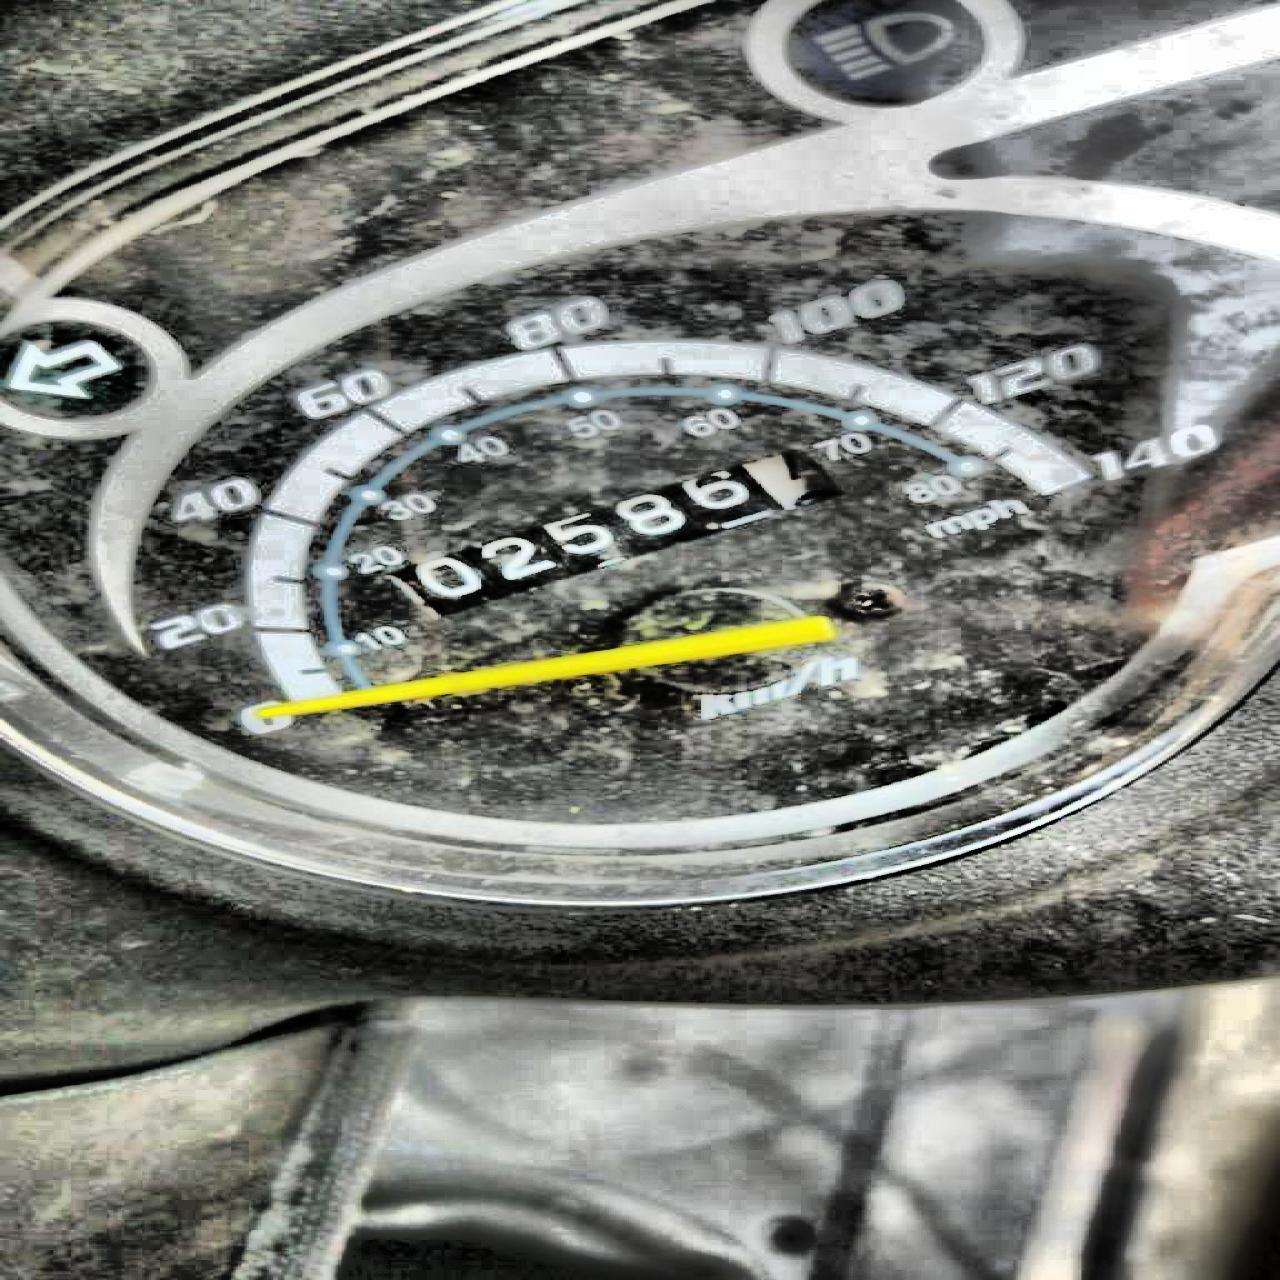0: (414, 556, 483, 595), (402, 491, 440, 515), (476, 434, 513, 455)
2: (476, 535, 560, 584)
4: (451, 443, 486, 467)
5: (536, 513, 615, 557)
6: (674, 467, 744, 509)
7: (742, 449, 809, 485), (811, 437, 840, 461)
8: (611, 489, 687, 535)
odometer: (400, 440, 849, 625)
